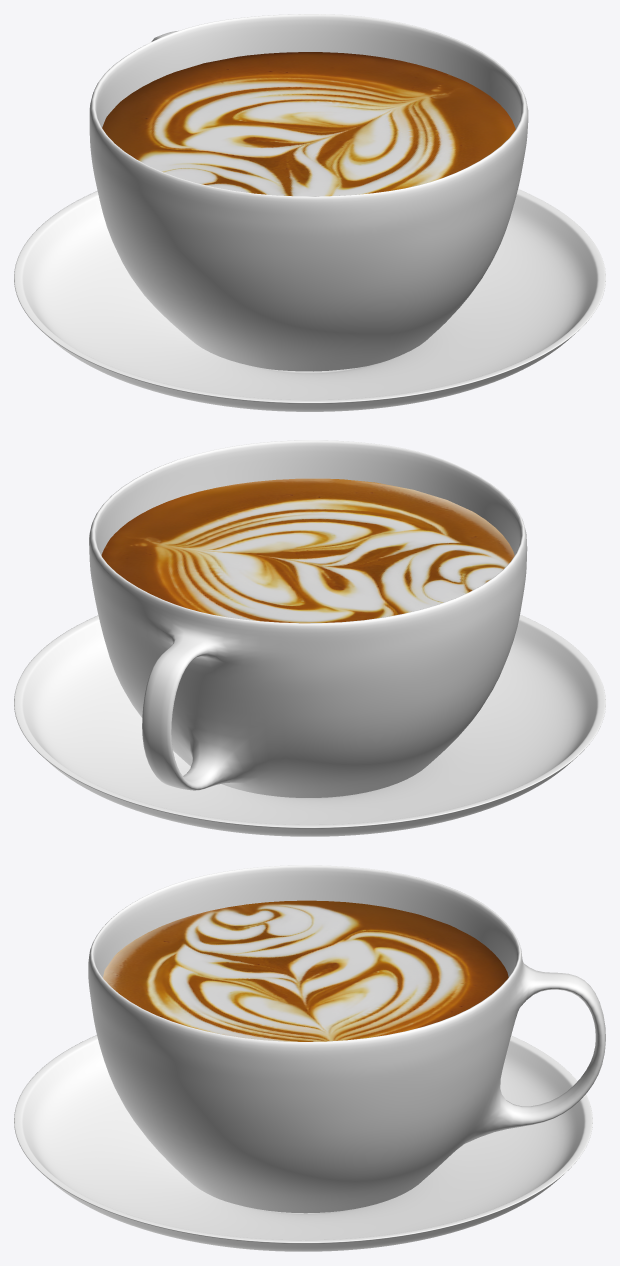
Rendered from coffee_cup.glb.
The picture shows the model from 3 angles, top to bottom: view 1: azimuth 30°, elevation 25°; view 2: azimuth 150°, elevation 25°; view 3: azimuth 270°, elevation 25°; orthographic projection. The views are drawn at different scales.
Visible parts, largest first — view 1: cup.001; view 2: cup.001; view 3: cup.001.
Boxes of the visible parts, box(x1,y1,x2,y2) form: cup.001: box(14, 14, 605, 411); cup.001: box(14, 440, 605, 836); cup.001: box(14, 865, 605, 1251).
Size of the model in its own units: 1.47 by 0.6221 by 1.51.
1 material, 1 textured.
